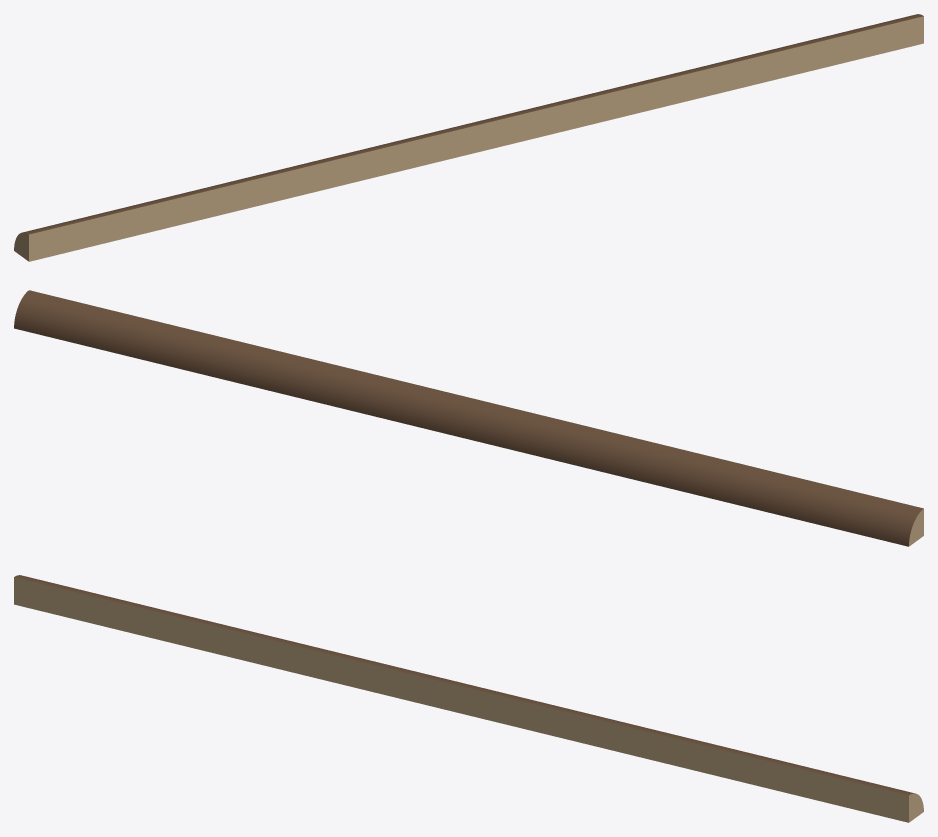
The model's file is SM_RawLog_600_Quarter_04.fbx.
The picture shows the model from 3 angles, top to bottom: view 1: azimuth 30°, elevation 25°; view 2: azimuth 150°, elevation 25°; view 3: azimuth 330°, elevation 25°; orthographic projection.
Parts seen in each view (by area): view 1: RawLog_600_Quarter_04; view 2: RawLog_600_Quarter_04; view 3: RawLog_600_Quarter_04.
Part boxes in pixels (bbox=[...]): RawLog_600_Quarter_04: bbox=[14, 14, 923, 261]; RawLog_600_Quarter_04: bbox=[14, 290, 923, 546]; RawLog_600_Quarter_04: bbox=[14, 575, 923, 822].
Size of what is drawn, in the model's own units: 6 by 0.175 by 0.175.
